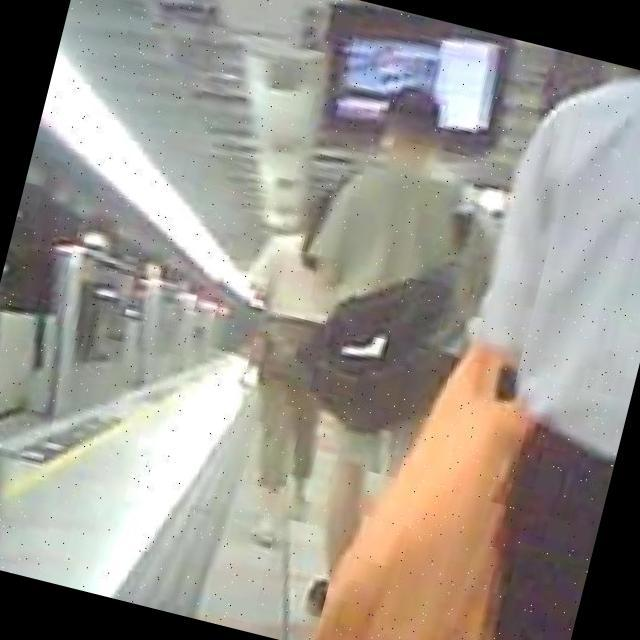person: (228, 73, 526, 637), (387, 45, 640, 640), (191, 152, 394, 556)
